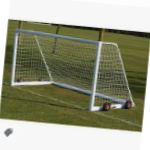goals: (9, 28, 136, 112)
